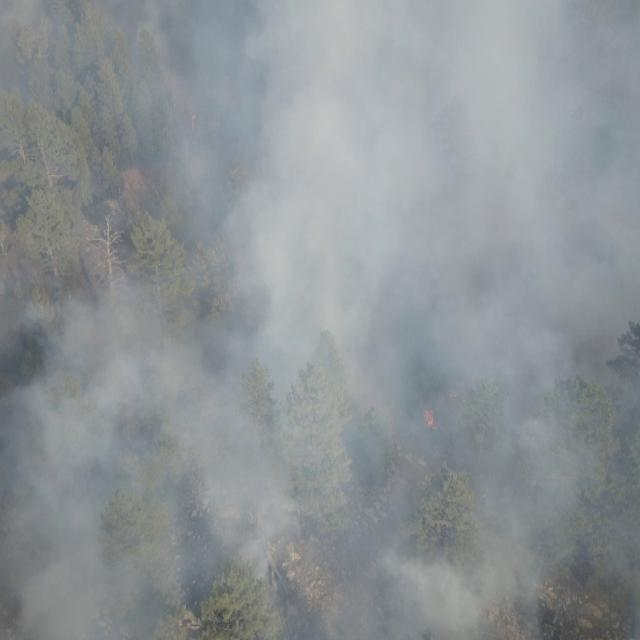fire: (439, 380, 474, 405), (421, 408, 437, 432), (189, 112, 197, 133)
smoke: (0, 0, 640, 640)
